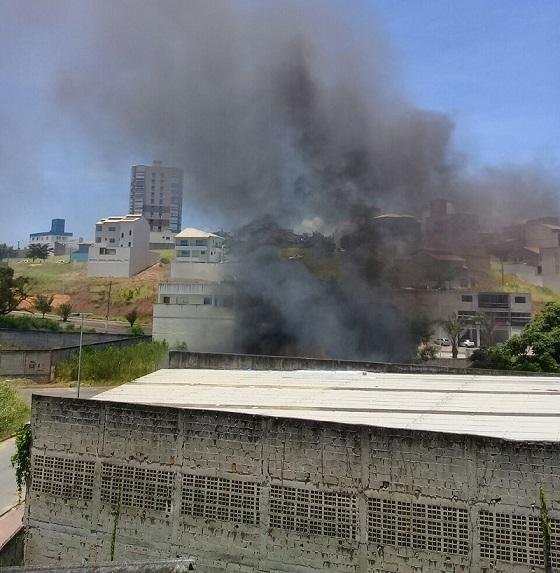smoke: (131, 4, 330, 131)
